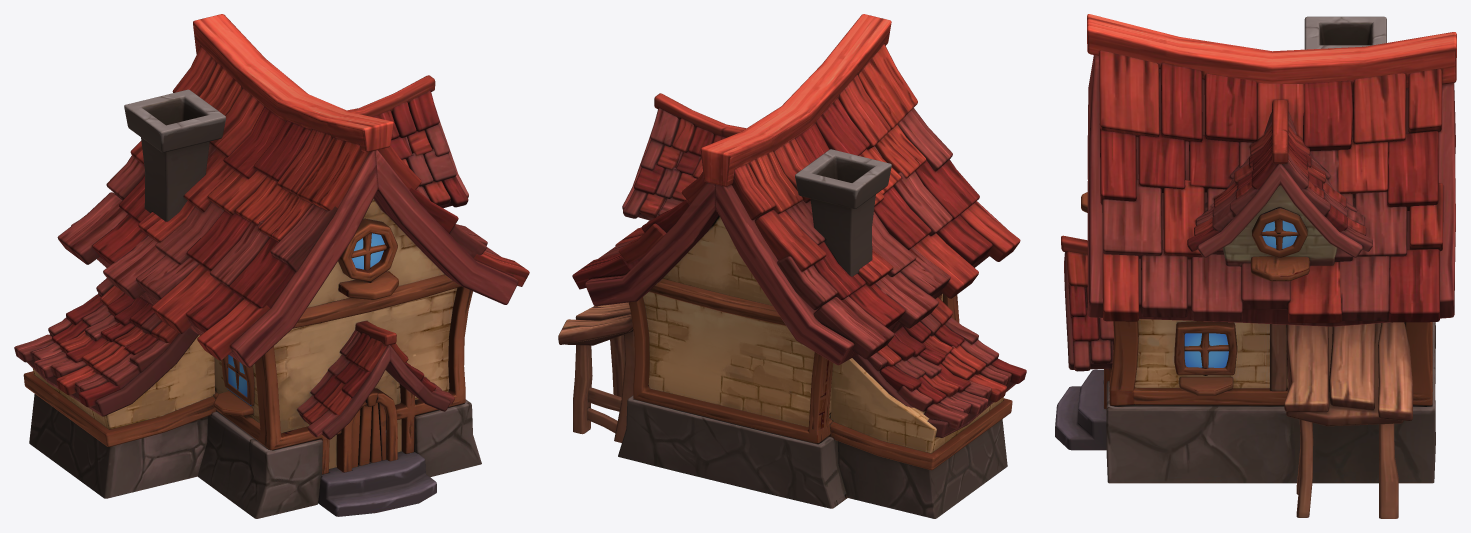
File: m_building_02.glb
3 renders of one model, left to right at view 1: azimuth 30°, elevation 25°; view 2: azimuth 150°, elevation 25°; view 3: azimuth 270°, elevation 25°, orthographic. The views are drawn at different scales.
Parts seen in each view (by area): view 1: Stylized_House_Roof, Stylized_House_Main; view 2: Stylized_House_Roof, Stylized_House_Main; view 3: Stylized_House_Roof, Stylized_House_Main.
Boxes of the visible parts, x1,y1,x2,y2 form: Stylized_House_Roof: (14, 14, 529, 439); Stylized_House_Main: (23, 89, 481, 518); Stylized_House_Roof: (558, 14, 1026, 442); Stylized_House_Main: (618, 149, 1012, 518); Stylized_House_Roof: (1061, 14, 1456, 518); Stylized_House_Main: (1055, 16, 1435, 483).
Bounding box in the file's own units: 5.47 × 4.68 × 4.22.
Materials: 2 (2 with a texture image).
